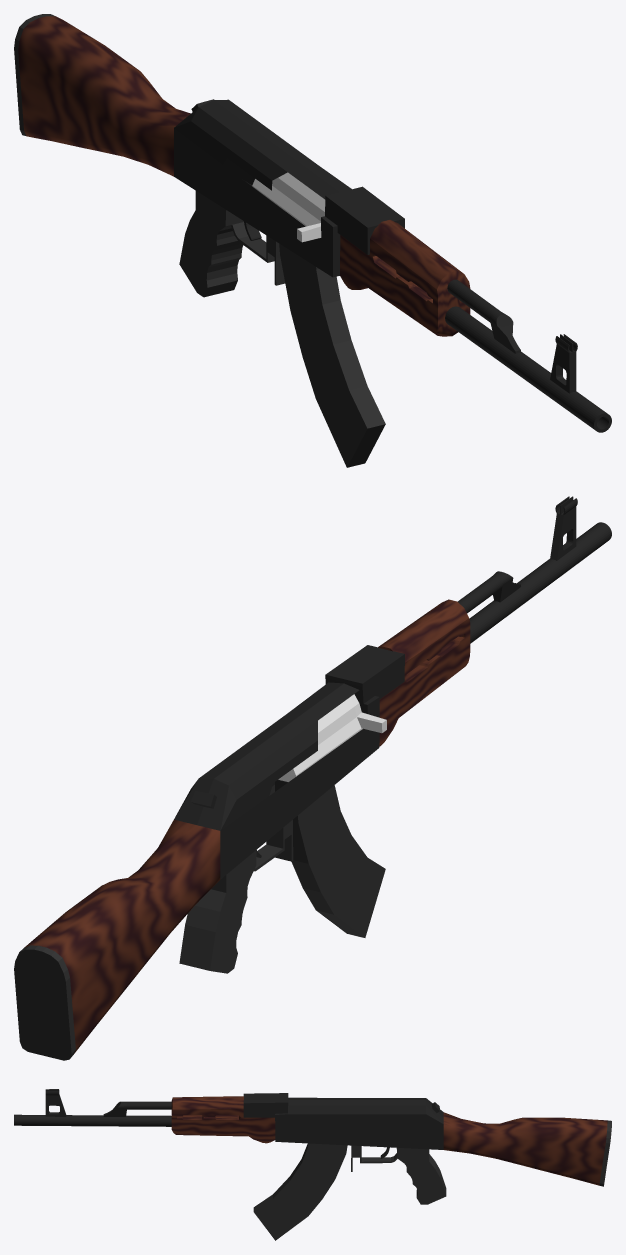
3 views of the same model, one above another, from view 1: azimuth 30°, elevation 25°; view 2: azimuth 150°, elevation 25°; view 3: azimuth 270°, elevation 25° (orthographic). The views are drawn at different scales.
Visible parts, largest first — view 1: receiver, stock, mag, furniture, grip, barrel, bolt assembly, gas tube, front sight, stock_end; view 2: receiver, stock, mag, furniture, grip, stock_end, barrel, bolt assembly, front sight, gas tube; view 3: receiver, stock, mag, furniture, grip, barrel, gas tube, front sight, stock_end.
Boxes of the visible parts, x1,y1,x2,y2 form: receiver: (174,99,404,277); stock: (18,16,190,176); mag: (279,244,385,467); furniture: (340,220,470,336); grip: (179,191,285,297); barrel: (445,306,611,432); bolt assembly: (252,172,325,242); gas tube: (447,279,520,353); front sight: (550,334,577,393); stock_end: (14,14,58,135); receiver: (174,645,404,879); stock: (24,819,220,1053); mag: (291,785,385,937); furniture: (378,599,470,746); grip: (179,820,293,973); stock_end: (14,945,75,1060); barrel: (469,522,611,643); bolt assembly: (278,694,386,781); front sight: (550,496,577,560); gas tube: (457,571,520,613); receiver: (243,1093,443,1149); stock: (443,1112,607,1185); mag: (253,1143,347,1240); furniture: (171,1096,275,1143); grip: (351,1145,446,1204); barrel: (14,1114,171,1126); gas tube: (103,1101,171,1116); front sight: (45,1089,66,1116); stock_end: (599,1120,611,1186).
Size of the model in its own units: 0.3501 by 1.37 by 5.
Materials: 5 (2 with a texture image).
